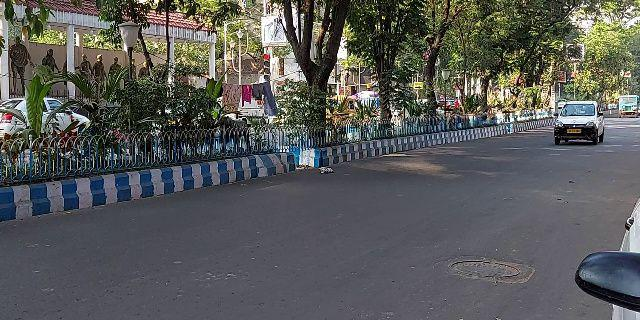Car: (550, 97, 607, 147)
